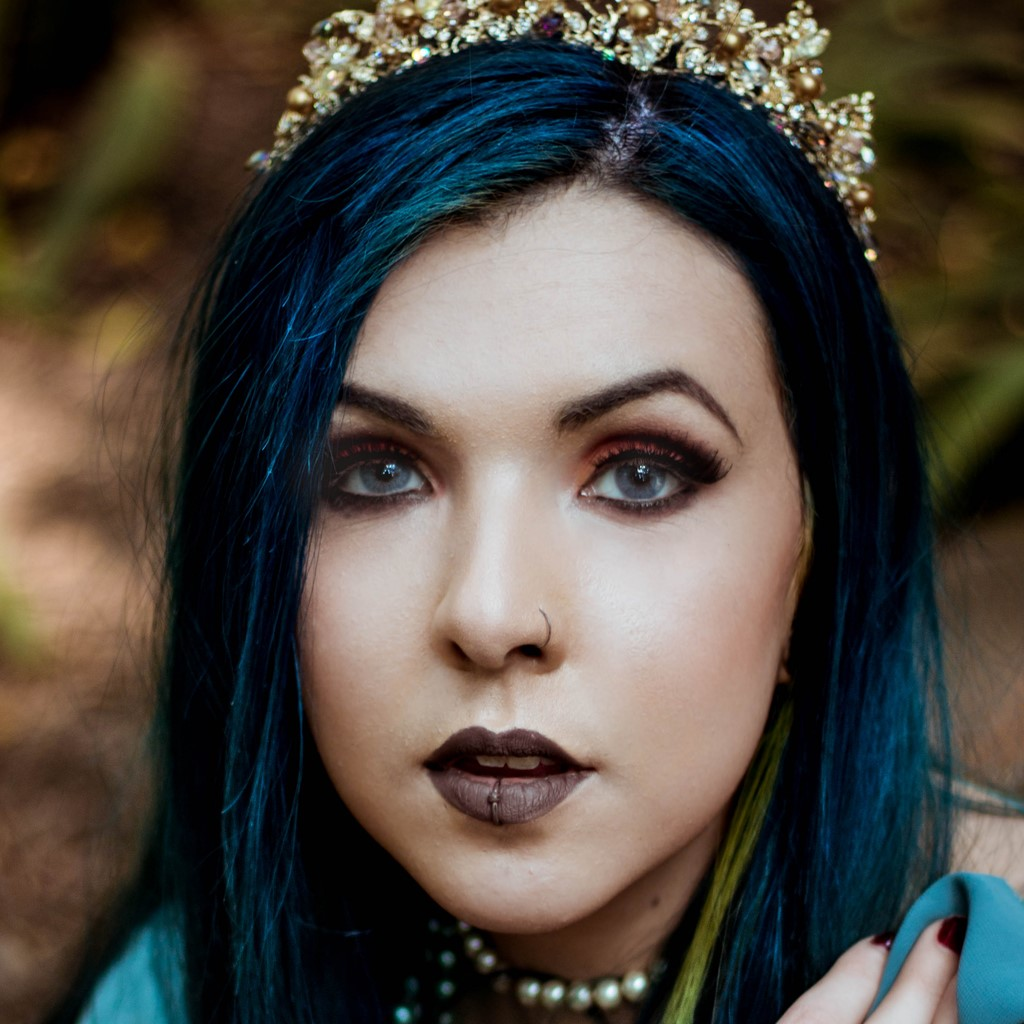sin_mascara: (242, 119, 833, 946)
